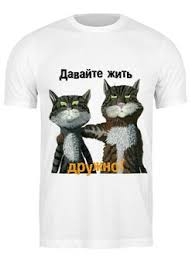cat: (99, 77, 149, 123), (44, 86, 93, 130)
